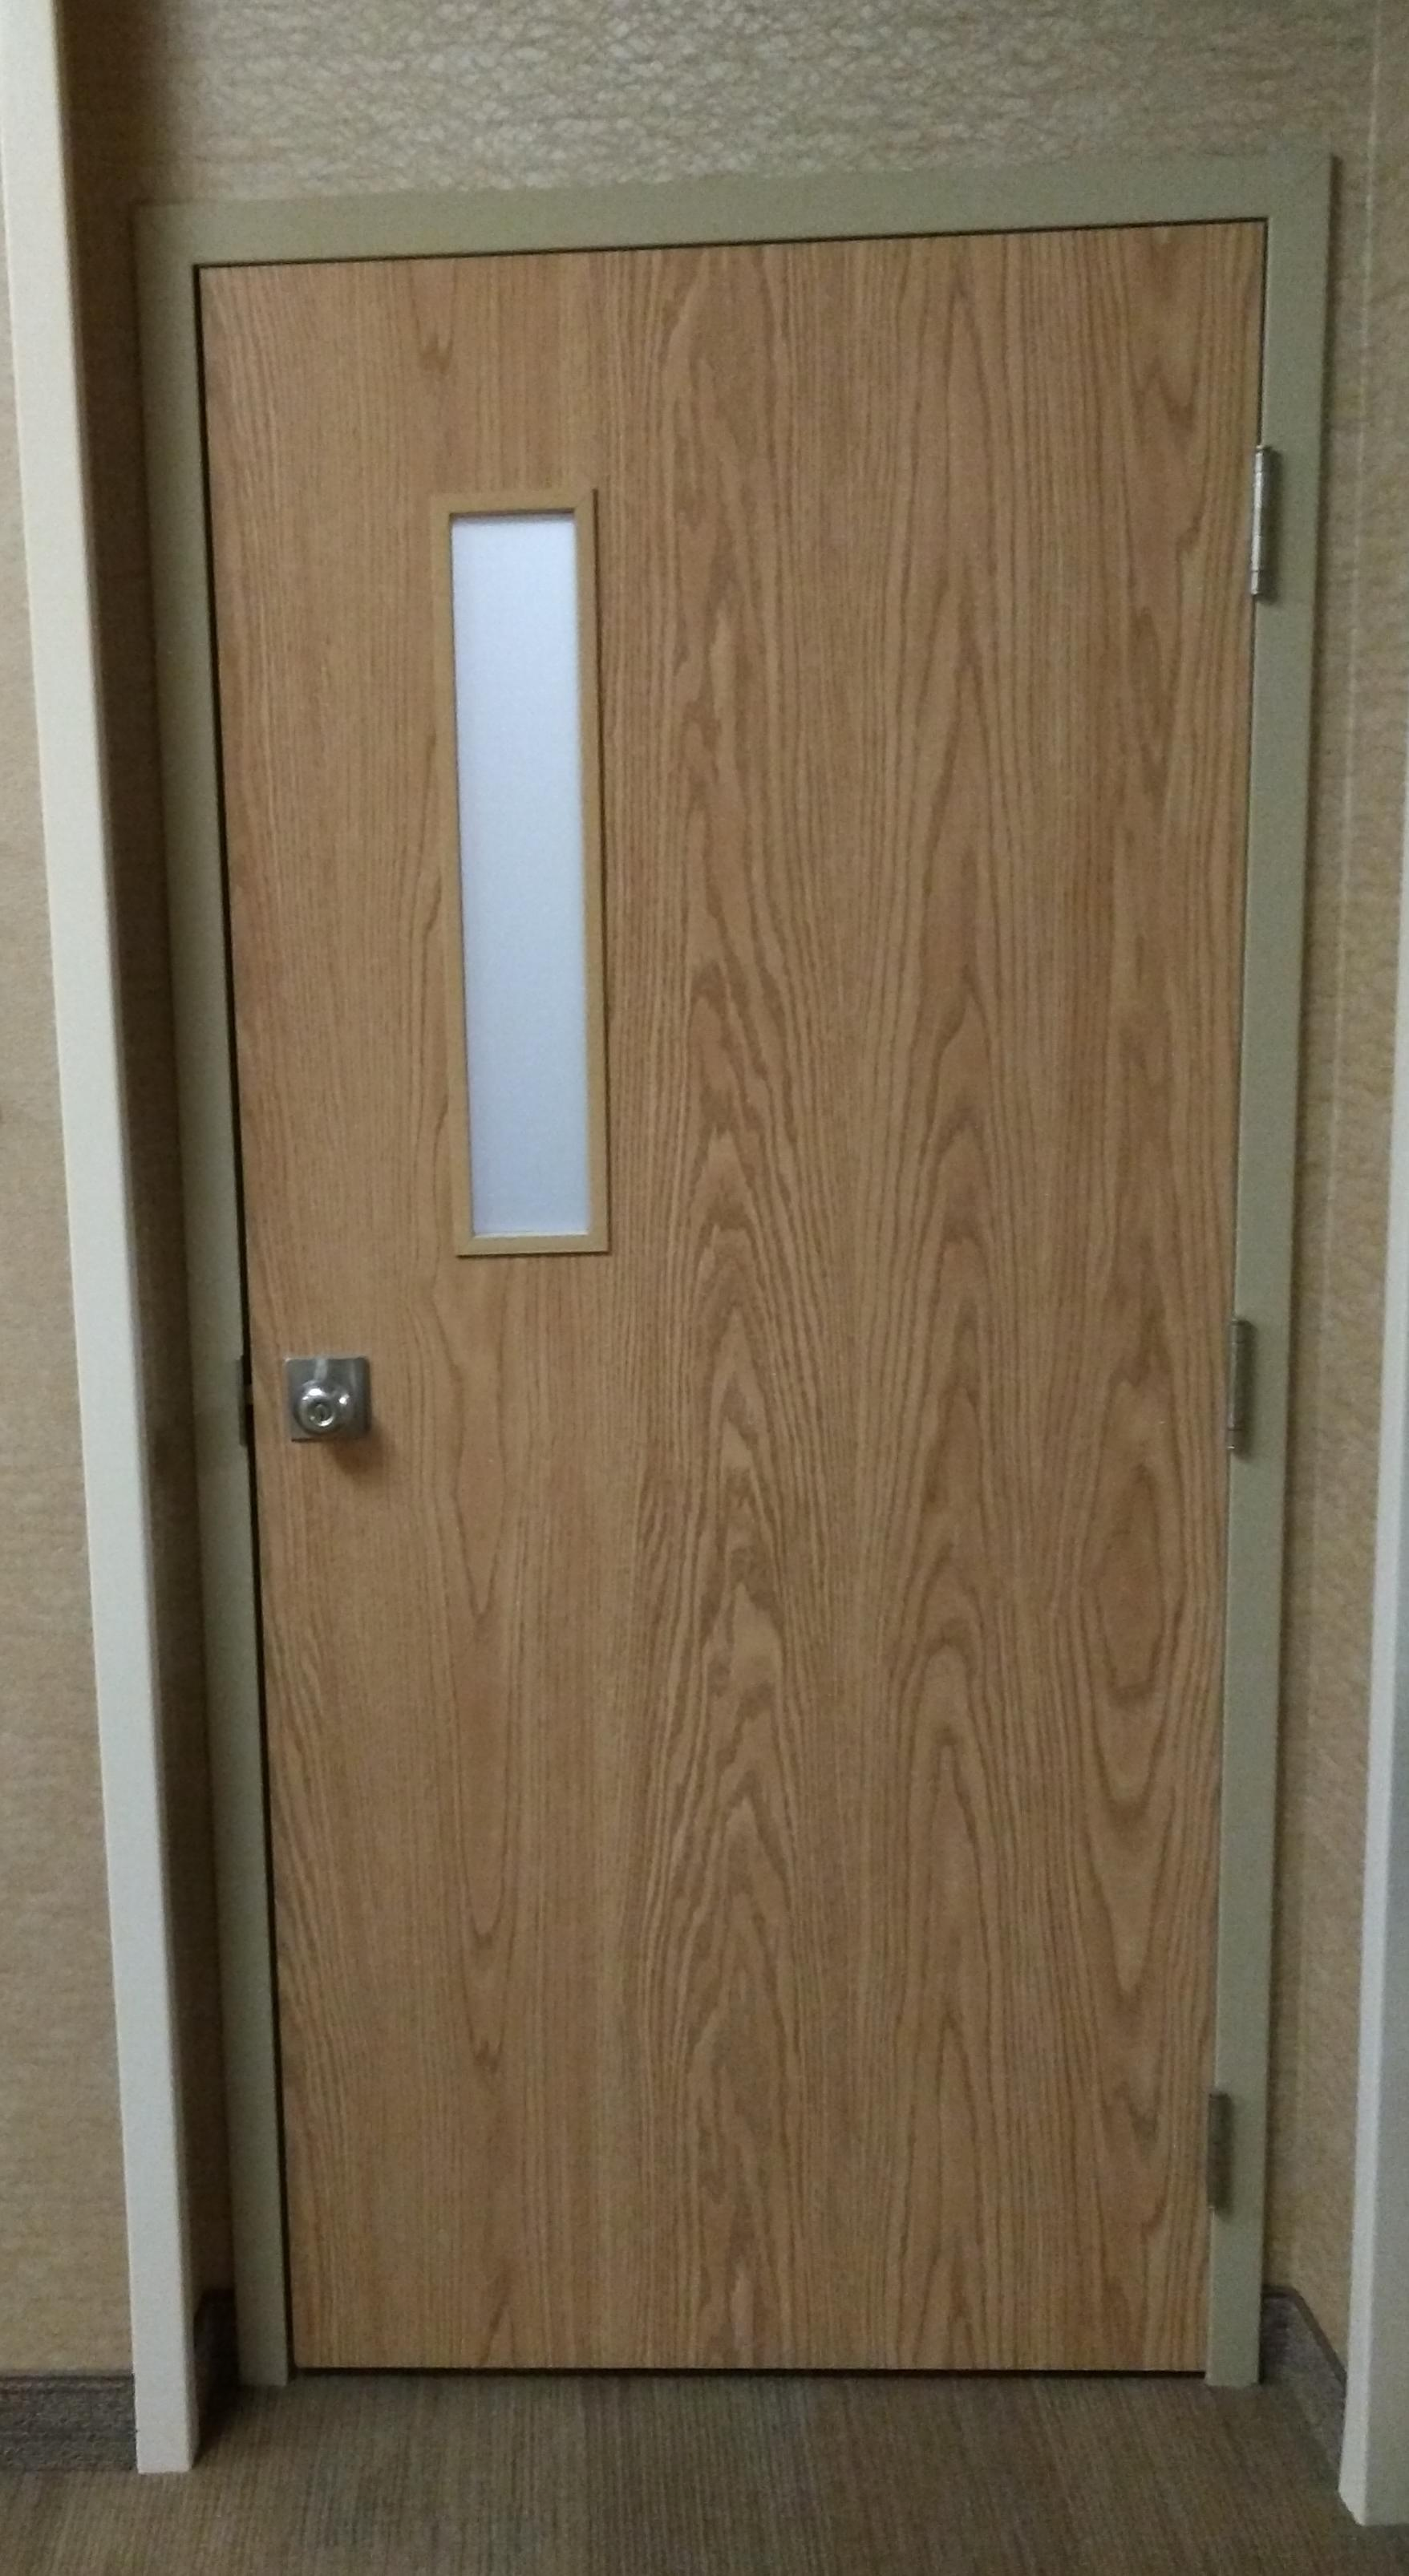door: (253, 311, 1216, 2354)
handle: (283, 1320, 371, 1468)
